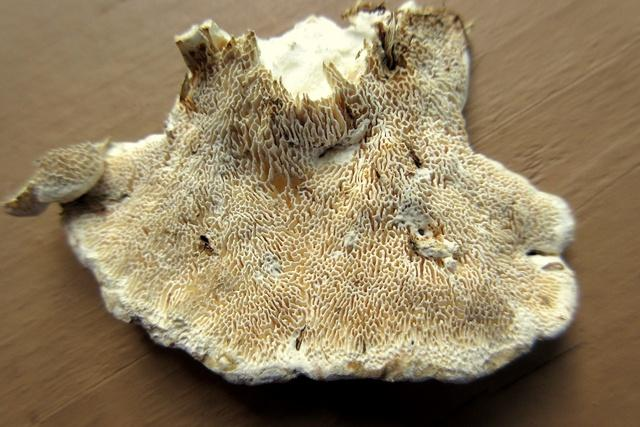Non-edible Mushroom: (4, 1, 580, 387)
